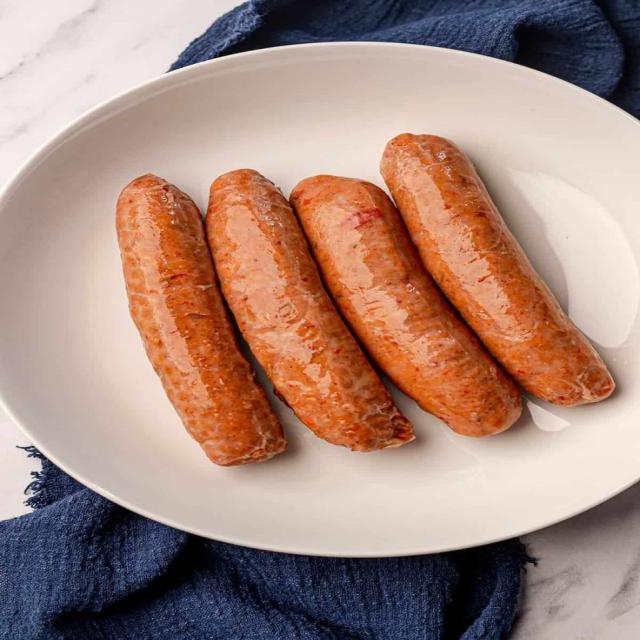sausage: (381, 134, 614, 405), (292, 175, 520, 437), (207, 170, 413, 451), (117, 175, 286, 465)
